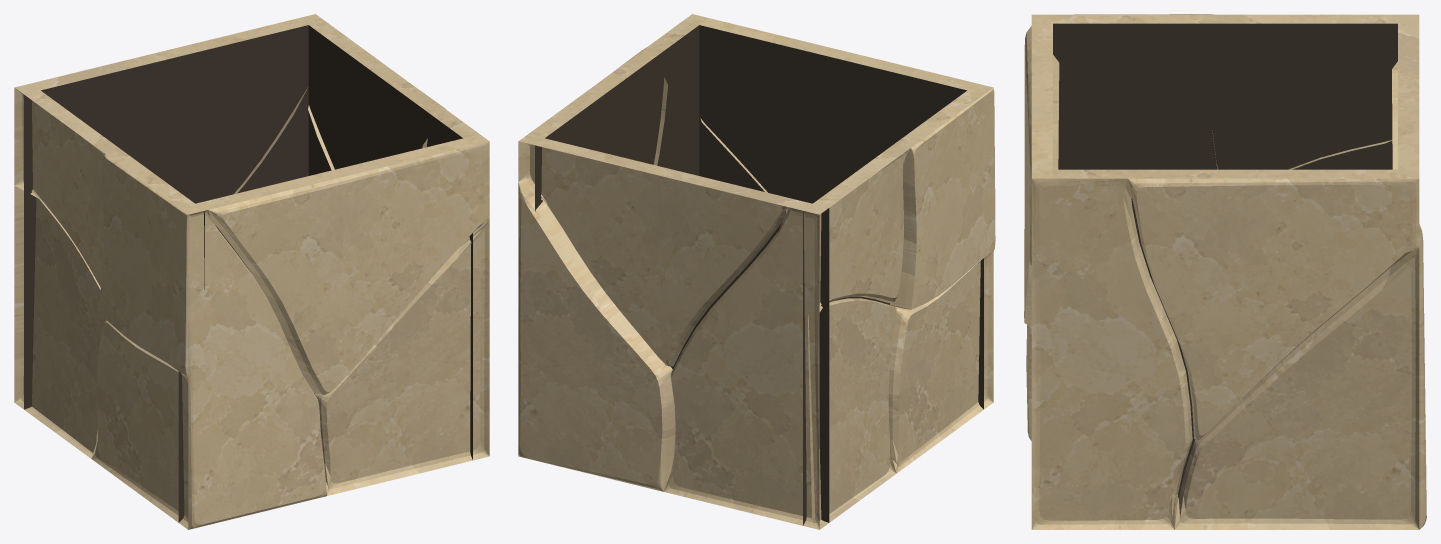
The model's file is ground_square_island_05.glb.
3 renders of one model, left to right at view 1: azimuth 30°, elevation 25°; view 2: azimuth 150°, elevation 25°; view 3: azimuth 270°, elevation 25°, orthographic. The views are drawn at different scales.
Visible parts, largest first — view 1: GroundSquareIsland05_Body; view 2: GroundSquareIsland05_Body; view 3: GroundSquareIsland05_Body.
Boxes of the visible parts, bbox=[...] form: GroundSquareIsland05_Body: bbox=[14, 14, 489, 529]; GroundSquareIsland05_Body: bbox=[518, 14, 995, 529]; GroundSquareIsland05_Body: bbox=[1024, 14, 1426, 529].
Size of the model in its own units: 1.04 by 1 by 1.04.
Materials: 15 (14 with a texture image).
